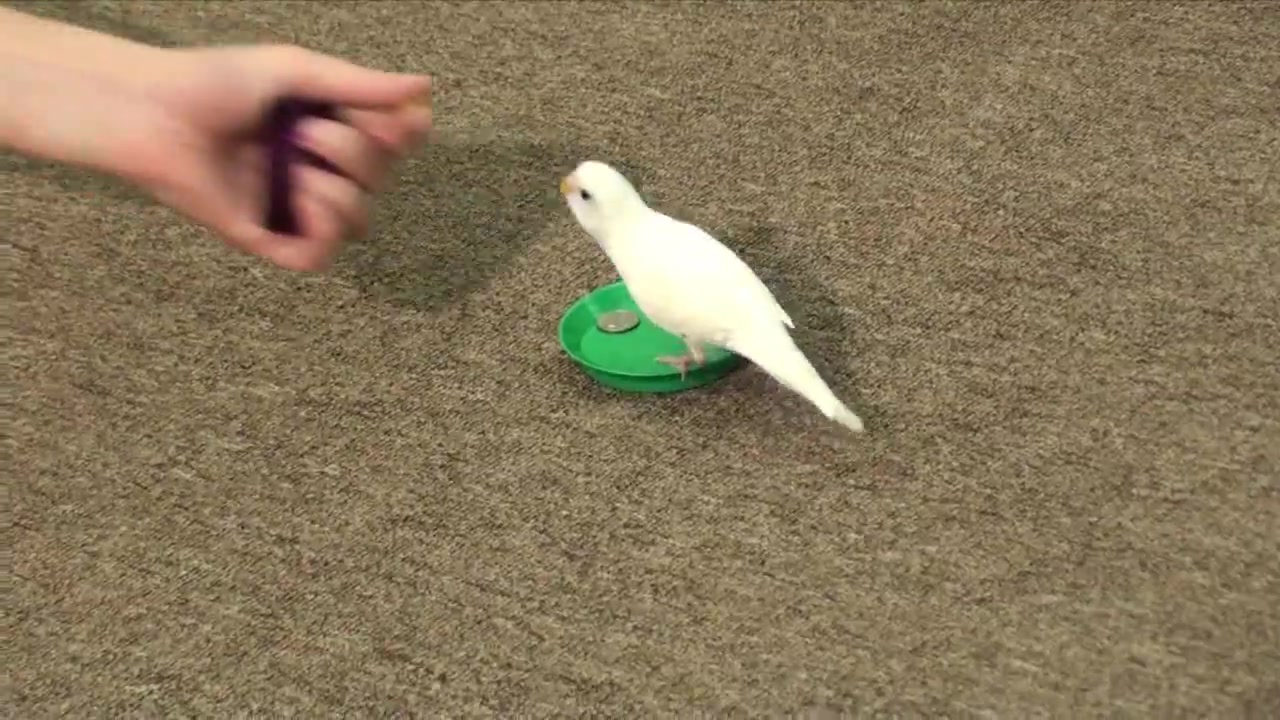bird: (559, 162, 866, 434)
